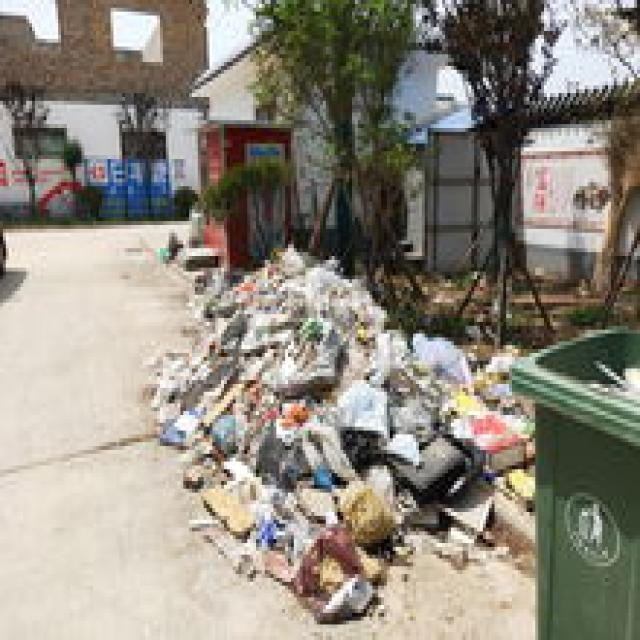garbage: (148, 244, 532, 620)
garbage_bin: (506, 322, 637, 636)
